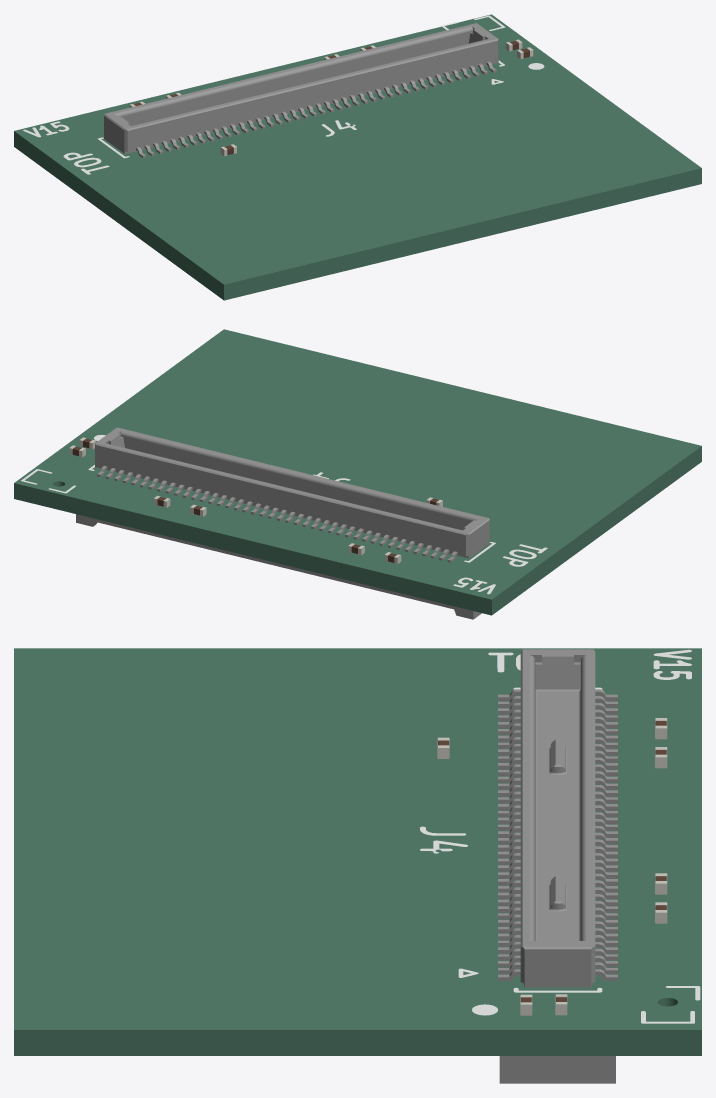
The model's file is optb-asic-top-v15.glb.
The picture shows the model from 3 angles, top to bottom: view 1: azimuth 30°, elevation 25°; view 2: azimuth 150°, elevation 25°; view 3: azimuth 270°, elevation 25°; orthographic projection. The views are drawn at different scales.
Parts seen in each view (by area): view 1: =>[0:1:1:10], =>[0:1:1:3], =>[0:1:1:8]; view 2: =>[0:1:1:10], =>[0:1:1:3], =>[0:1:1:7], =>[0:1:1:8]; view 3: =>[0:1:1:10], =>[0:1:1:3], =>[0:1:1:7], =>[0:1:1:8].
Boxes of the visible parts, box(x1,y1,x2,y2) form: =>[0:1:1:10]: box(14, 14, 701, 300); =>[0:1:1:3]: box(104, 23, 498, 158); =>[0:1:1:8]: box(23, 15, 544, 174); =>[0:1:1:10]: box(14, 329, 701, 615); =>[0:1:1:3]: box(95, 427, 489, 562); =>[0:1:1:7]: box(76, 514, 481, 619); =>[0:1:1:8]: box(21, 434, 547, 594); =>[0:1:1:10]: box(14, 648, 701, 1055); =>[0:1:1:3]: box(498, 649, 617, 987); =>[0:1:1:7]: box(499, 1056, 615, 1083); =>[0:1:1:8]: box(420, 649, 700, 1023).
Bounding box in the file's own units: 0.0224 × 0.00347 × 0.017.
